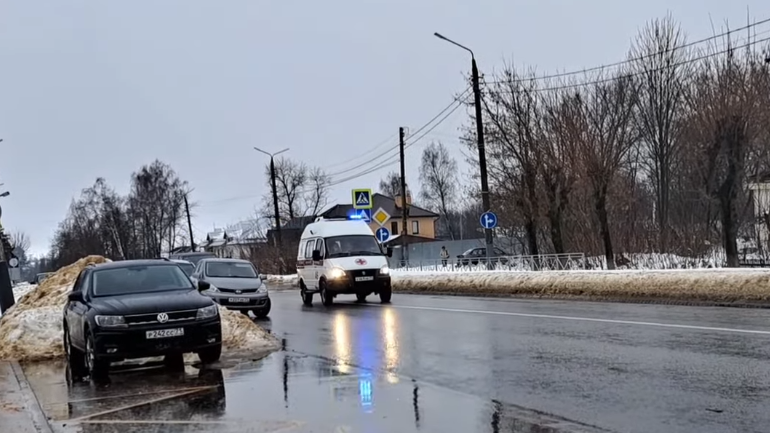ambulance: (297, 220, 392, 308)
non emergency car: (64, 261, 221, 374), (193, 257, 268, 316), (456, 244, 511, 268)
